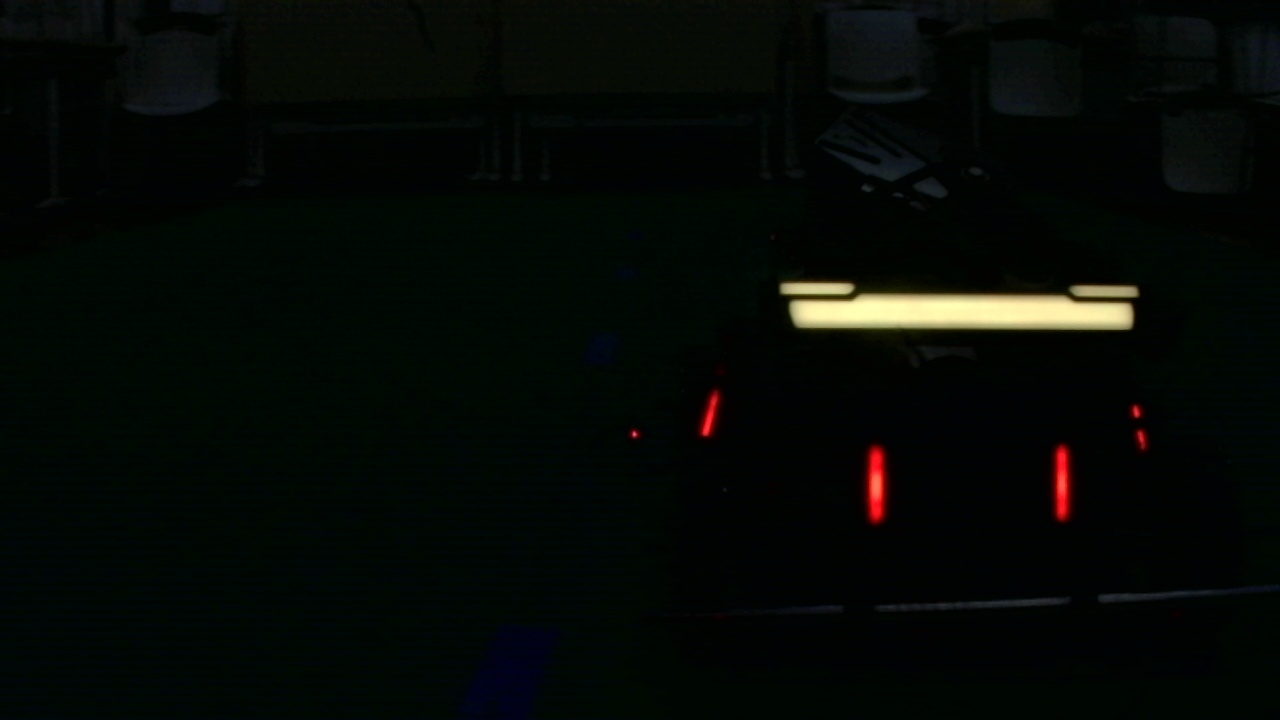lamp: (867, 446, 888, 524), (1051, 447, 1072, 522), (698, 390, 719, 443)
notpair1: (697, 390, 887, 528)
pair1: (867, 448, 1071, 525)
